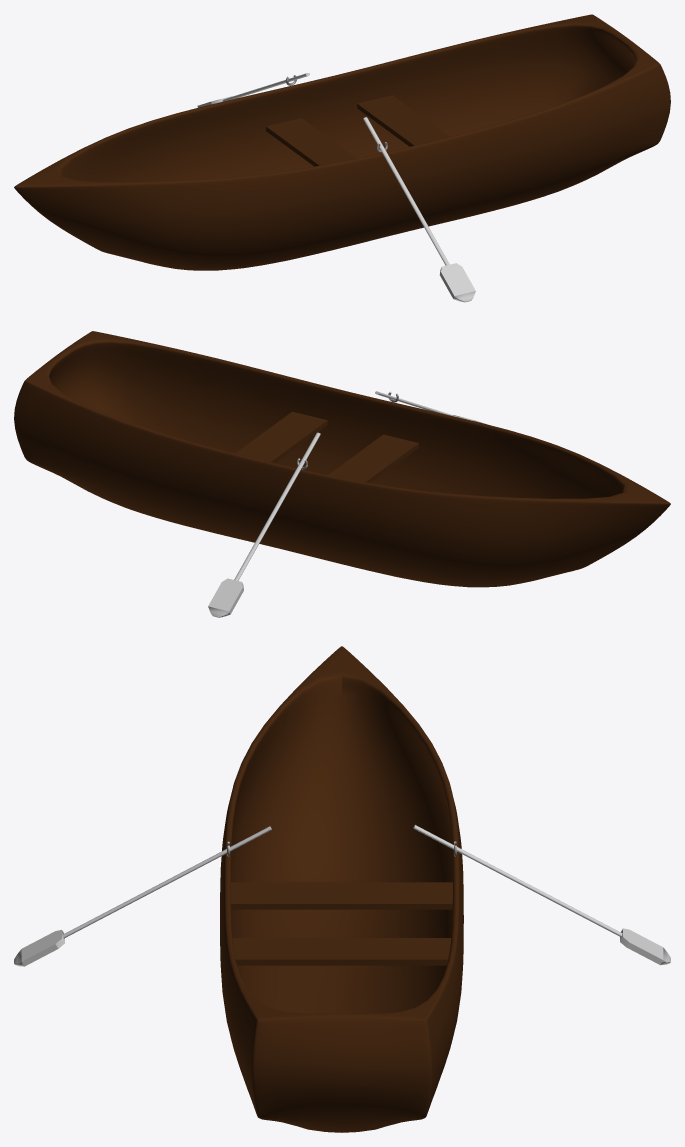
Rendered from Boat.fbx.
The picture shows the model from 3 angles, top to bottom: view 1: azimuth 30°, elevation 25°; view 2: azimuth 150°, elevation 25°; view 3: azimuth 270°, elevation 25°; orthographic projection. The views are drawn at different scales.
Parts seen in each view (by area): view 1: Sphere, Cube, Cube.001, Cylinder.001; view 2: Sphere, Cube, Cube.001, Cylinder.003; view 3: Sphere, Cube.001, Cube, Cylinder.003, Cylinder.001.
Boxes of the visible parts, x1=… form: Sphere: x1=14, y1=14, x2=670, y2=270; Cube: x1=357, y1=95, x2=449, y2=146; Cube.001: x1=266, y1=118, x2=356, y2=166; Cylinder.001: x1=363, y1=117, x2=475, y2=302; Sphere: x1=14, y1=331, x2=670, y2=587; Cube: x1=235, y1=411, x2=327, y2=463; Cube.001: x1=328, y1=434, x2=418, y2=482; Cylinder.003: x1=208, y1=432, x2=320, y2=617; Sphere: x1=220, y1=646, x2=463, y2=1132; Cube.001: x1=231, y1=882, x2=452, y2=909; Cube: x1=232, y1=938, x2=451, y2=965; Cylinder.003: x1=413, y1=825, x2=670, y2=965; Cylinder.001: x1=14, y1=826, x2=271, y2=966.
Bounding box in the file's own units: 466 × 102 × 341.
